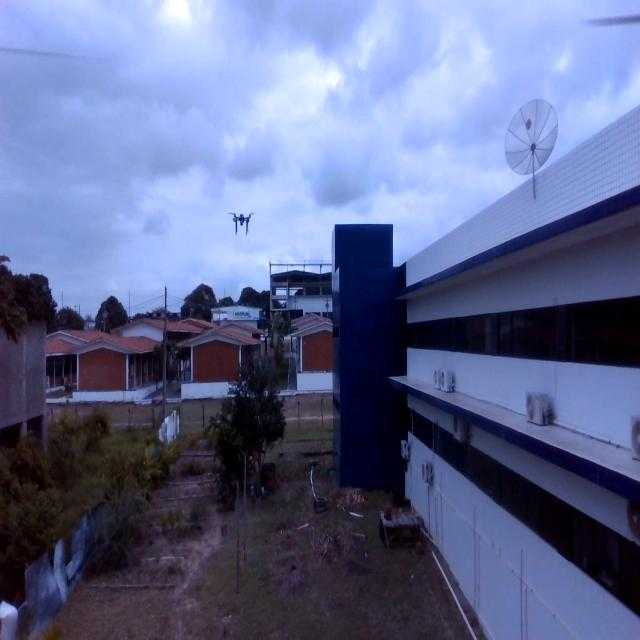-uav-: (228, 203, 258, 240)
